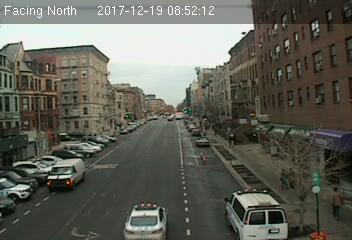car: (196, 137, 209, 146)
police: (222, 187, 291, 240), (122, 202, 173, 239)
truck: (46, 157, 85, 192)
